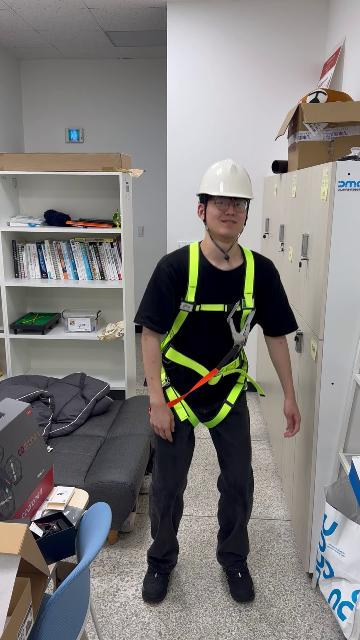helmet_worn: (194, 161, 256, 203)
shoe_worn: (223, 564, 255, 602), (142, 566, 172, 603)
vest_worn: (154, 248, 259, 424)
